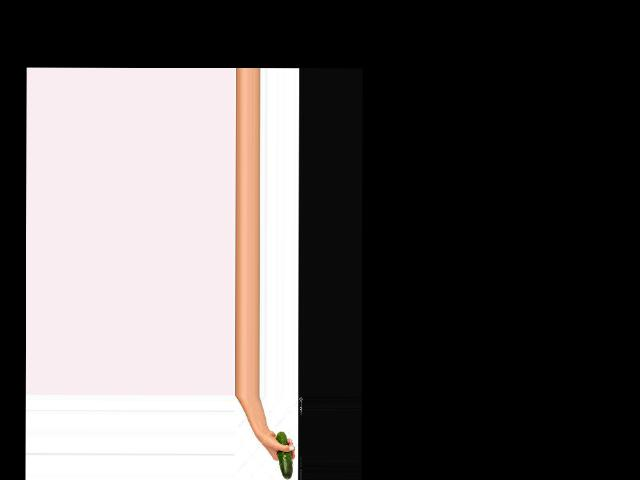cucumber: (276, 432, 293, 480)
